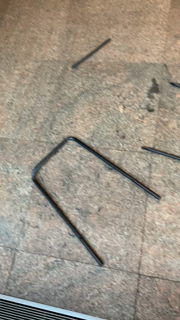U pipe: (28, 135, 163, 270)
i pipe: (71, 38, 114, 73)
